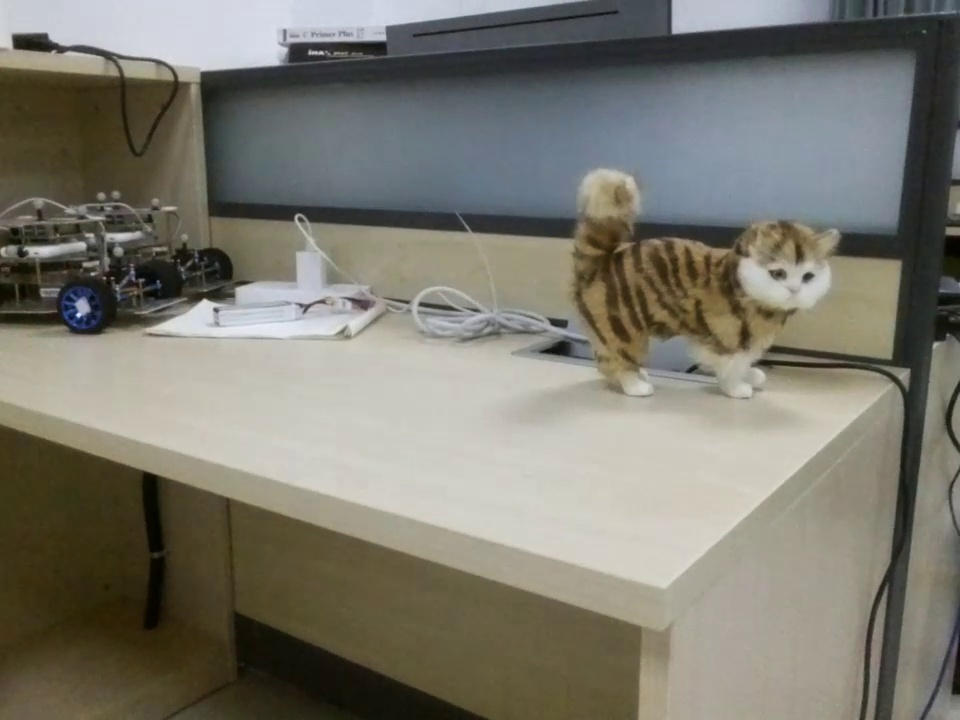cat: (544, 162, 869, 403)
